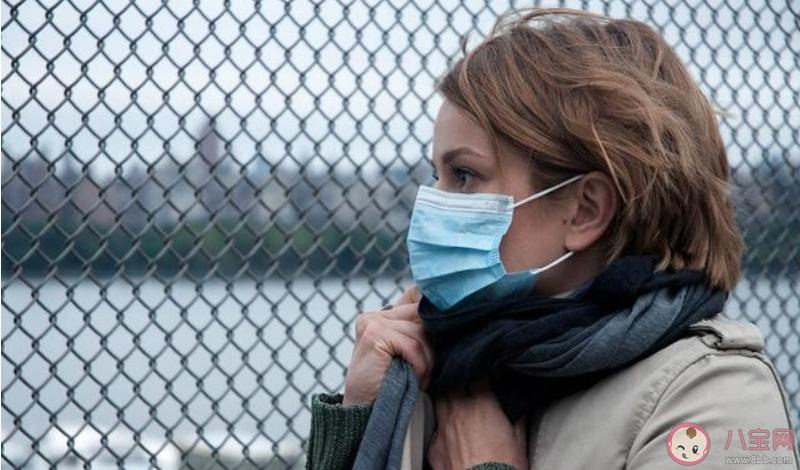mask: (405, 73, 608, 309)
